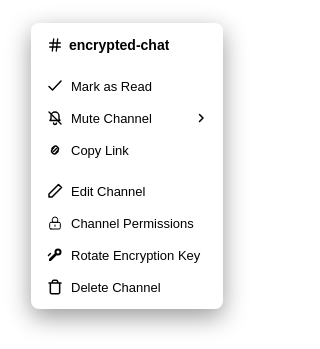
ChannelContextMenu — Rotate Encryption Key › shows error message on non-429 failure
Click the button "Rotate Encryption Key": coordinates (127, 255) [37,239,217,271]
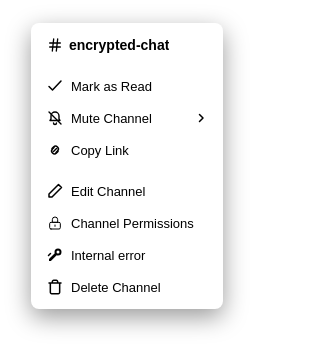
expect the text "Internal error" is shown: met, box [71,248,145,262]
